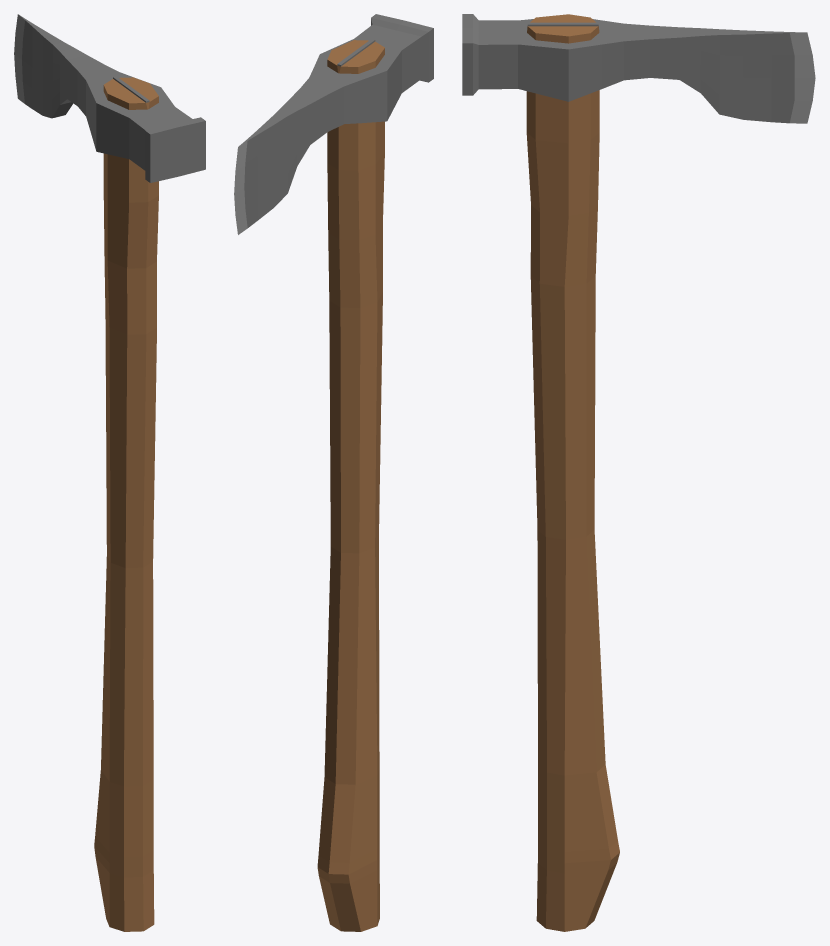
The model's file is twoLuggedChoppingAxe.fbx.
The picture shows the model from 3 angles, left to right: view 1: azimuth 30°, elevation 25°; view 2: azimuth 150°, elevation 25°; view 3: azimuth 270°, elevation 25°; orthographic projection. The views are drawn at different scales.
Parts seen in each view (by area): view 1: TwoLuggedChoppingAxe; view 2: TwoLuggedChoppingAxe; view 3: TwoLuggedChoppingAxe.
Boxes of the visible parts, <box> form: TwoLuggedChoppingAxe: <box>14,14,205,931</box>; TwoLuggedChoppingAxe: <box>234,14,433,931</box>; TwoLuggedChoppingAxe: <box>462,14,815,931</box>.
Size of the model in its own units: 15.68 by 193 by 68.83.
